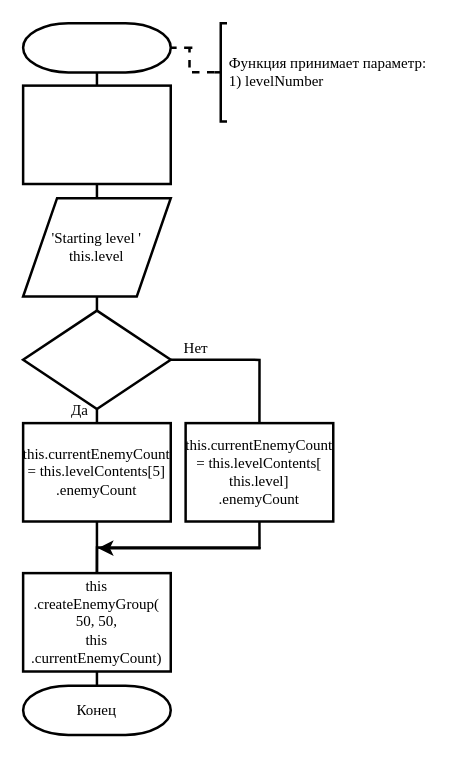
This 449x758 diagram has some shape labels left out. The centre of each missing label's shape, as x and y in pixels:
GameState ::startLevel(...): the point at 96,47
this.level > 5: the point at 96,359
this.playing = true: the point at 96,134
